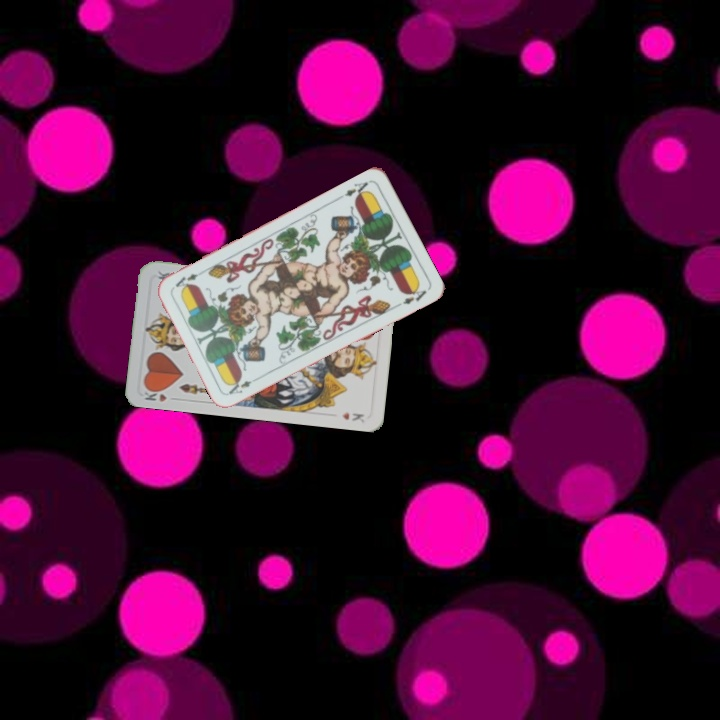EA: (335, 177, 372, 202), (224, 376, 254, 397)
HK: (139, 383, 180, 404)
